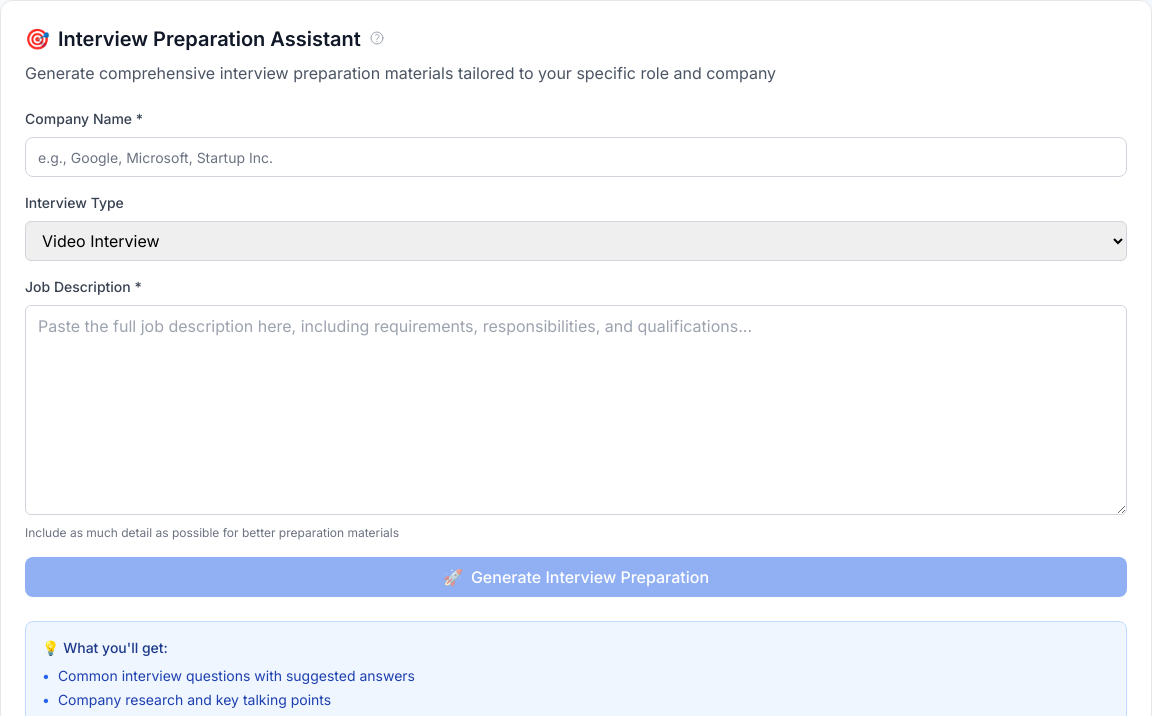
Test: InterviewPreparation › displays all sections of the preparation results
# Fill and submit form
Type "Google" into the field labelled "Company Name *" at x=576, y=157, box [25,137,1127,177]
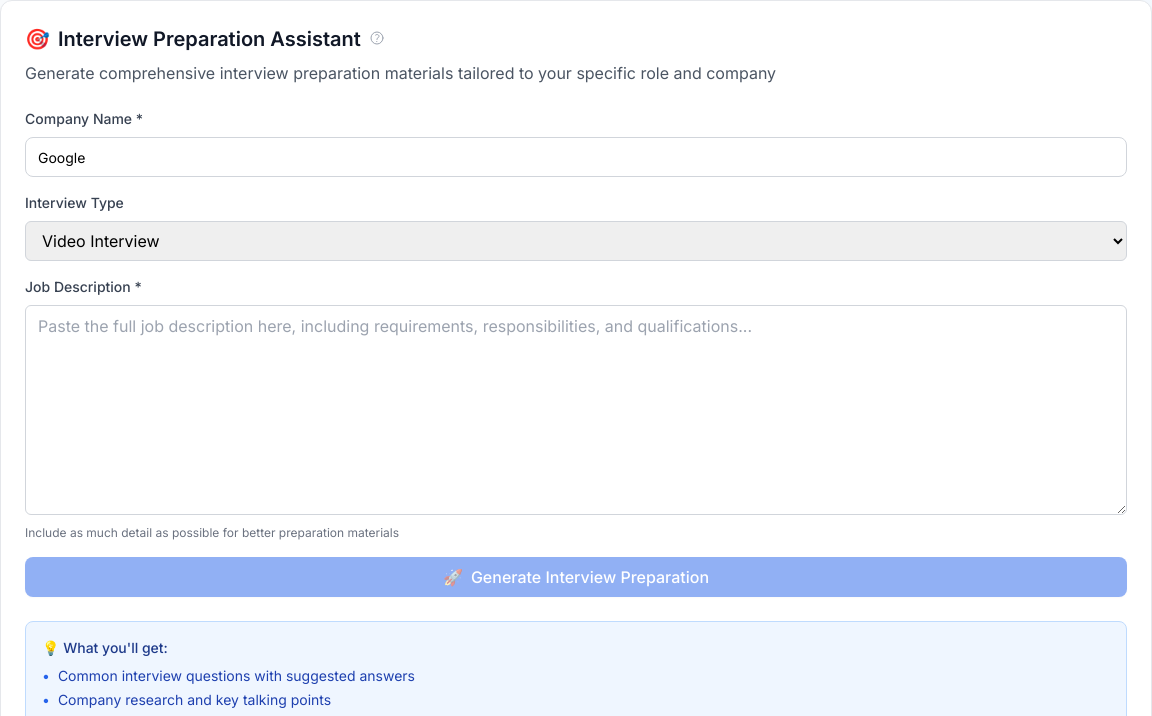
Replace the text in the text box labelled "Job Description *" with "Software Engineer position..." at x=576, y=410, box [25,305,1127,515]
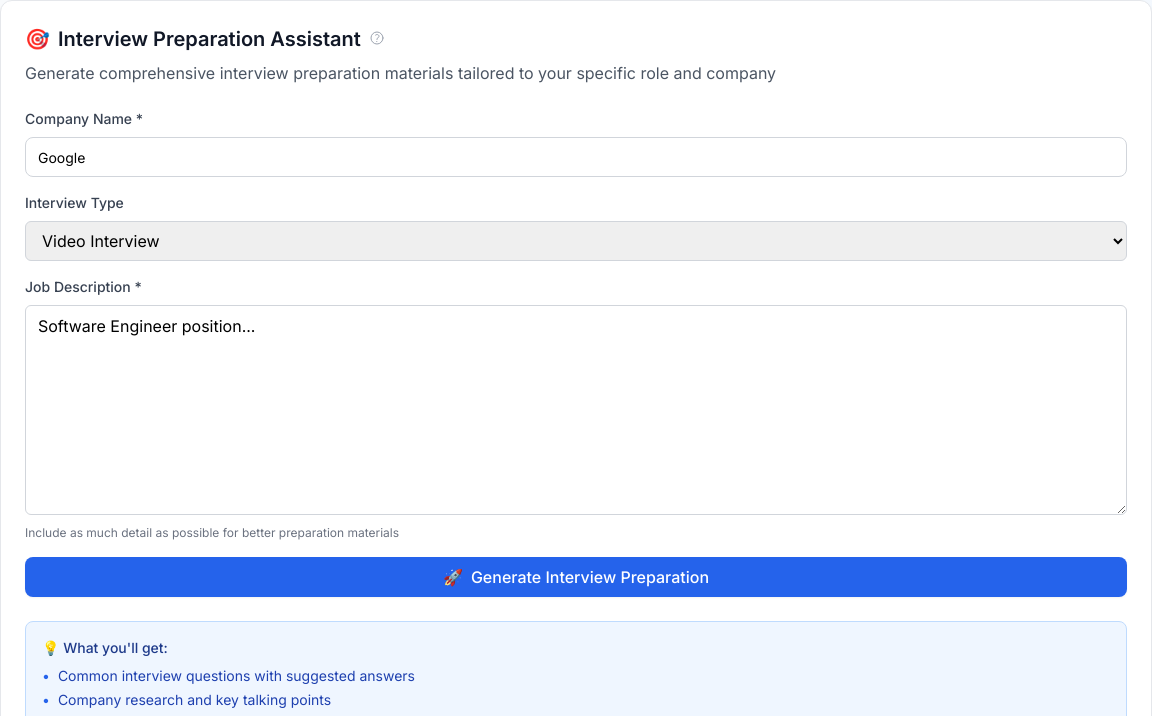
Click the button "🚀 Generate Interview Preparation" at x=576, y=577, box [25,557,1127,597]
(page scrolled)
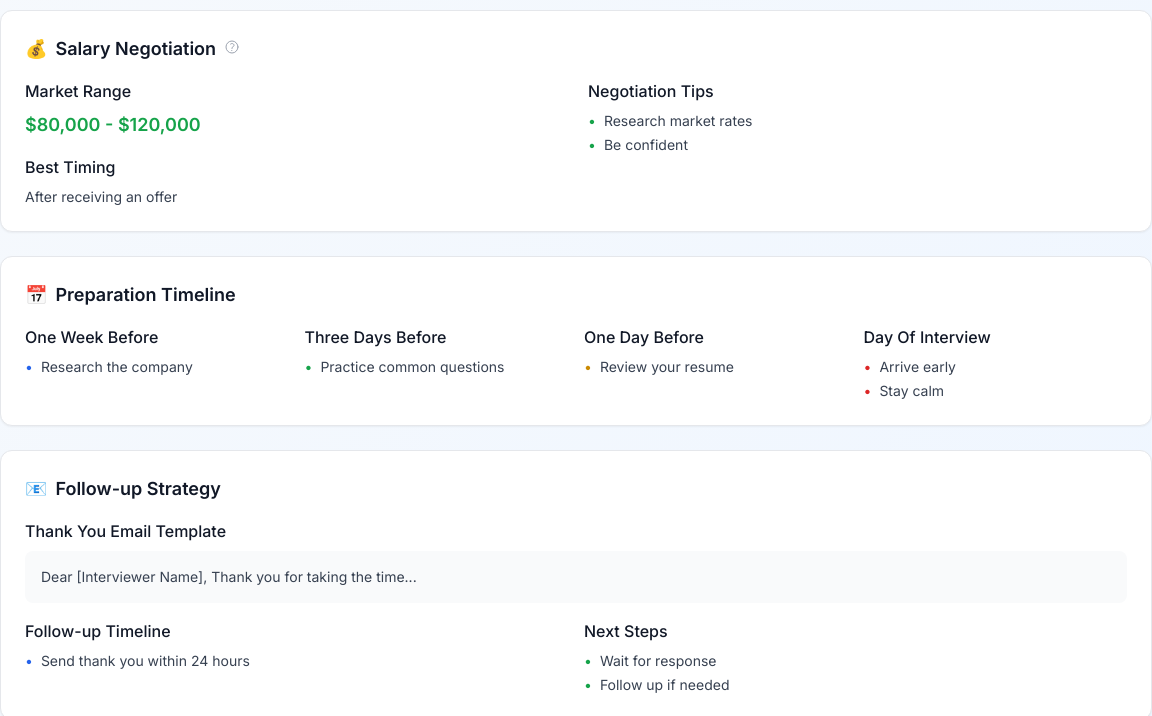
Check: the heading "💰 Salary Negotiation" is shown, box [25,38,240,59]
Check: the heading "📅 Preparation Timeline" is shown, box [25,284,236,305]
Check: the heading "📧 Follow-up Strategy" is shown, box [25,478,221,499]
